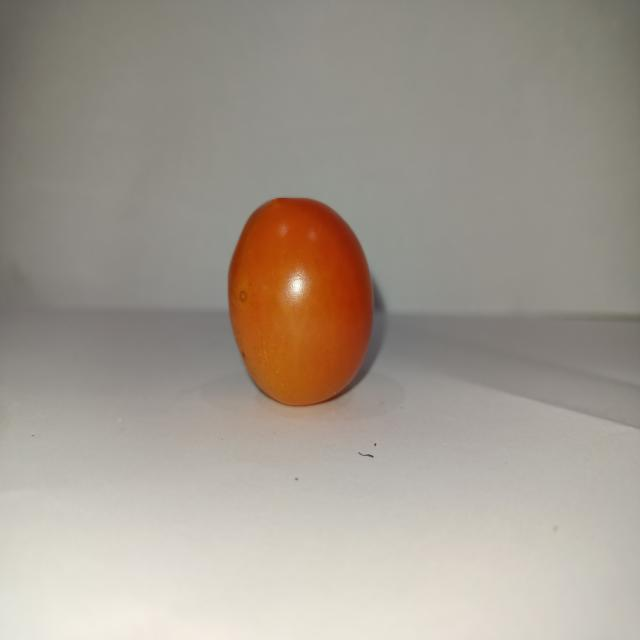Red: (226, 195, 375, 406)
